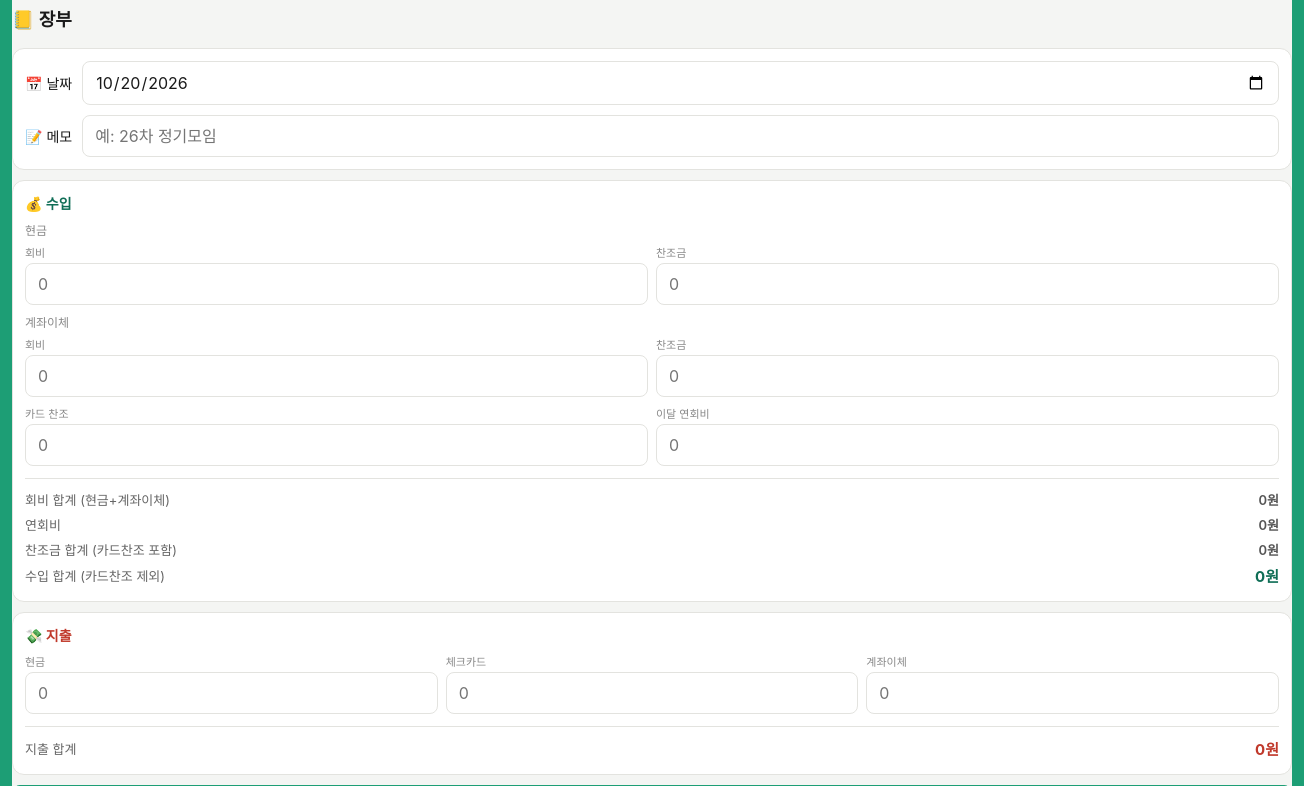
Test: LedgerTab — 금액 입력칸 천단위 콤마 표시 › 현금 지출 입력칸에 50000을 입력하면 50,000으로 보인다
The image size is (1304, 786).
Type "50000" into the field named "현금" at x=231, y=693, box [25,672,438,714]
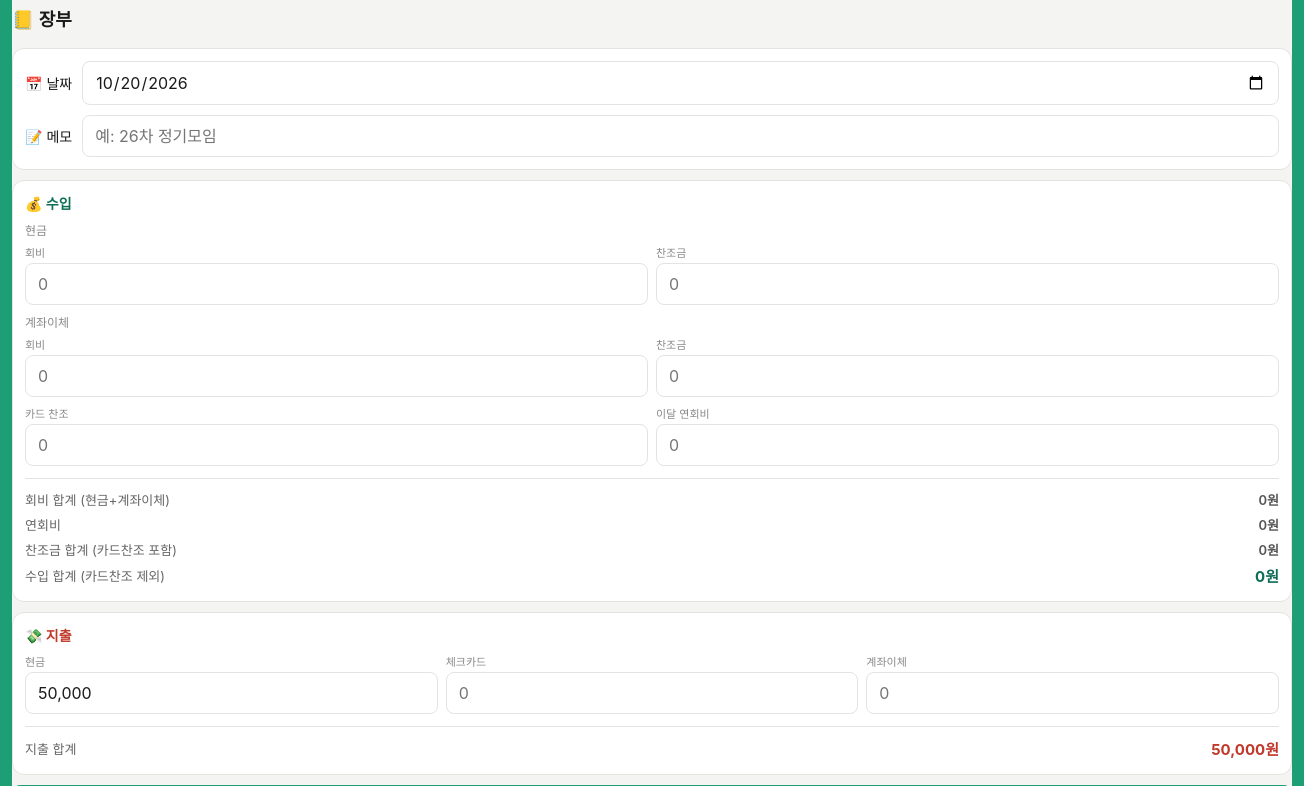
Expected: the field named "현금" holds "50,000", [25,672,438,714]
